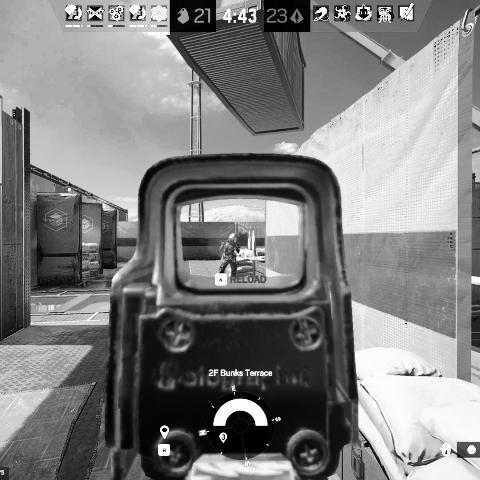Character: (218, 232, 242, 278)
Head: (228, 233, 236, 242)
